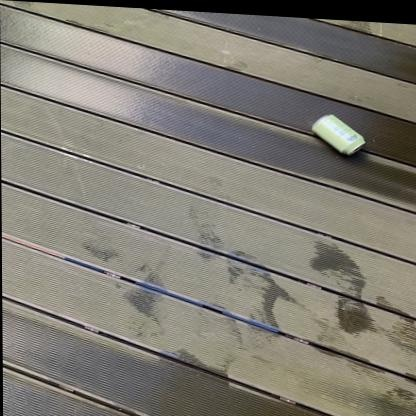trash: (312, 114, 364, 155)
